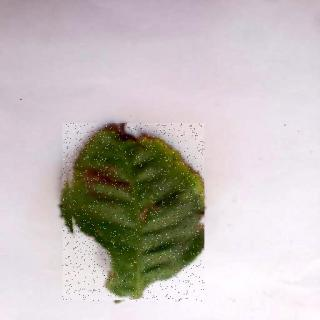Algal Leaf: (64, 125, 206, 303)
